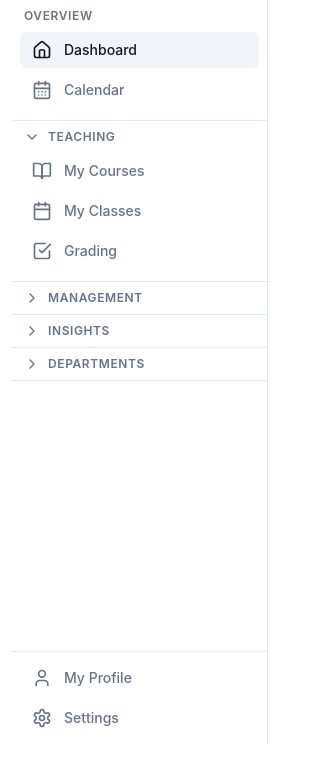
Scenario: Sidebar - Department Section › Expand/Collapse Behavior › should expand department list when clicking header
Click the button "Departments". click: (140, 364)
box: [12,348,267,380]
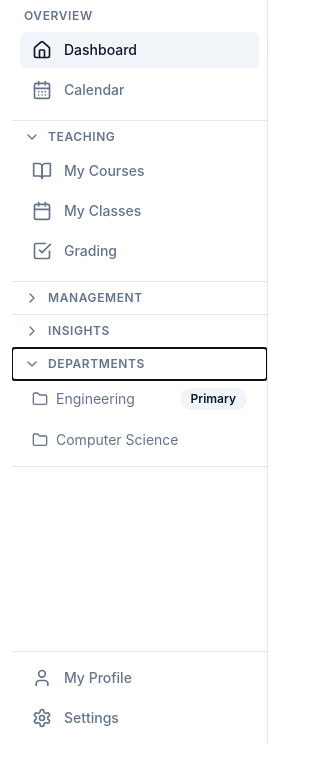
Check: the text "Engineering" is shown, box [56,390,135,407]
Check: the text "Computer Science" is shown, box [56,431,178,448]
